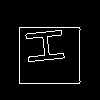H: (25, 25, 75, 66)
